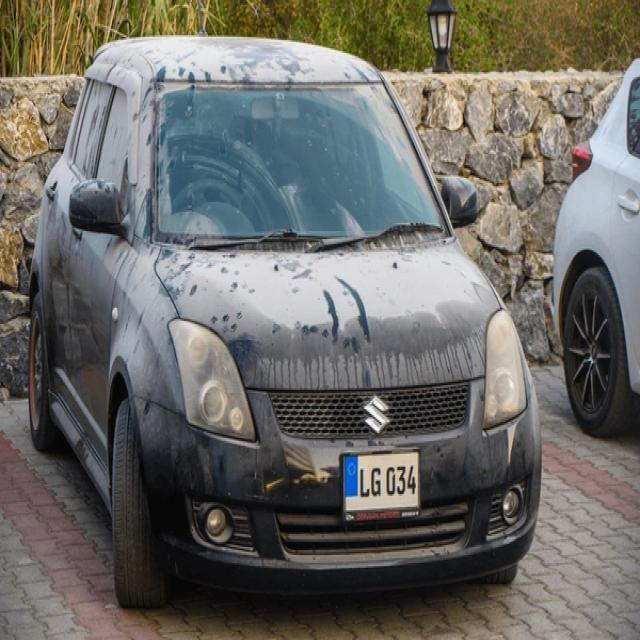seat: (363, 393, 393, 439)
